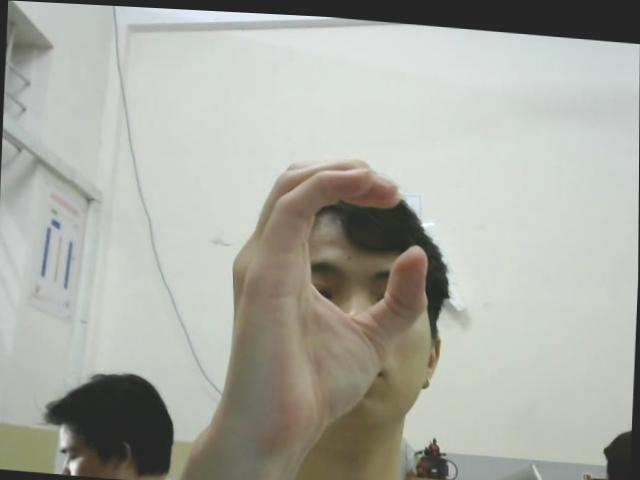C: (224, 144, 435, 437)
